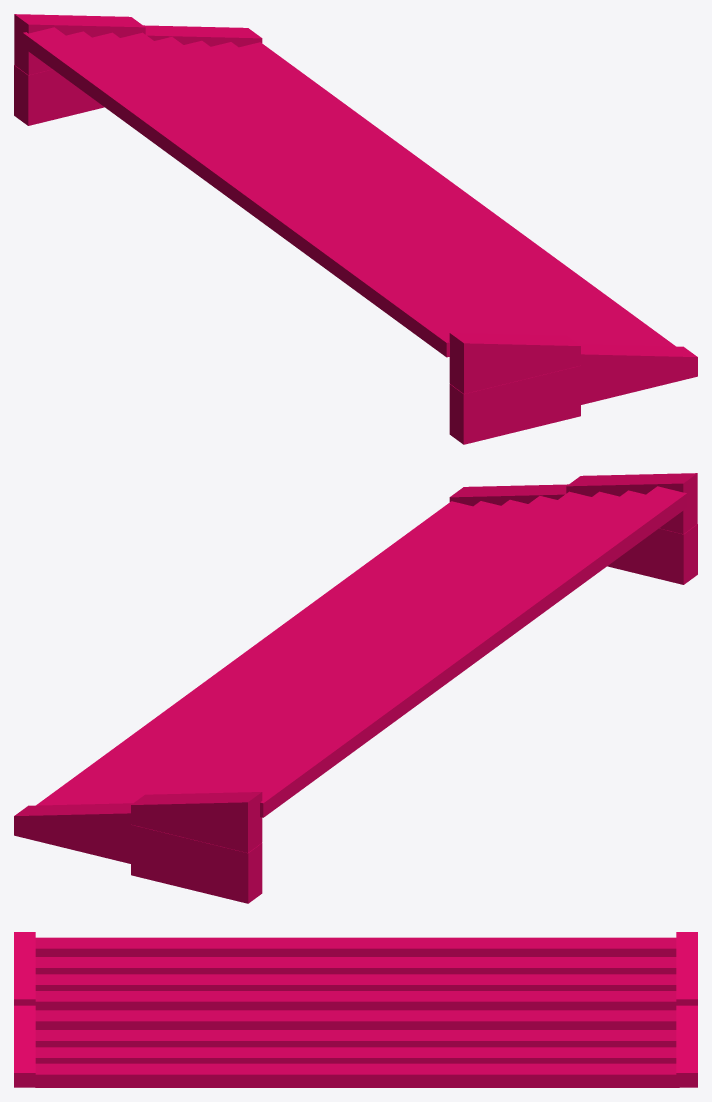
Rendered from Stairs_02_Lod0.fbx.
3 views of the same model, one above another, from view 1: azimuth 30°, elevation 25°; view 2: azimuth 150°, elevation 25°; view 3: azimuth 270°, elevation 25° (orthographic). The views are drawn at different scales.
Visible parts, largest first — view 1: Stairs_02_Lod0; view 2: Stairs_02_Lod0; view 3: Stairs_02_Lod0.
Part boxes in pixels (left/top/right/bottom): Stairs_02_Lod0: left=14, top=14, right=697, bottom=444; Stairs_02_Lod0: left=14, top=473, right=697, bottom=903; Stairs_02_Lod0: left=14, top=932, right=697, bottom=1087.
Size of the model in its own units: 974 by 398 by 3198.
